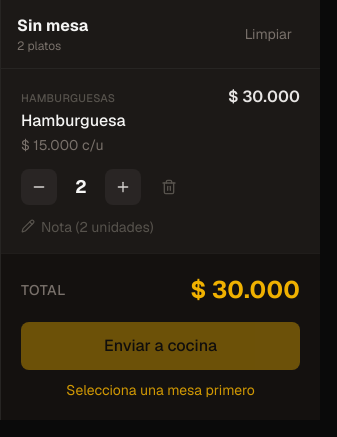
it: OrderSummary — send button › disables send when no table selected
Click the button "Enviar a cocina": x=160, y=346 [21,322,300,370]
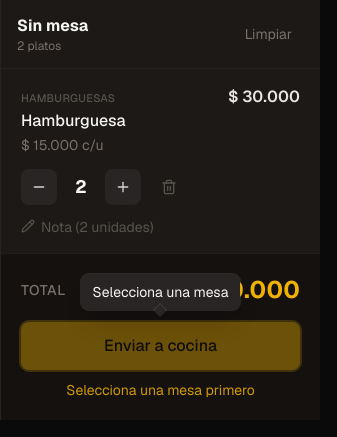
Expected: the text "Selecciona una mesa" is shown, [81,274,240,310]
